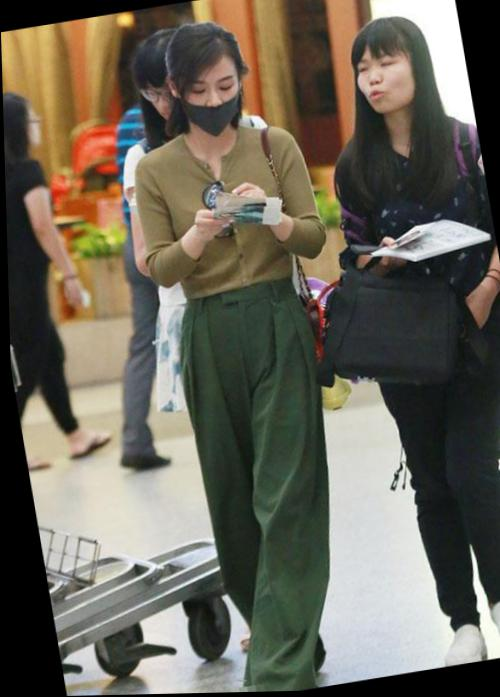NONE: (352, 49, 416, 117), (140, 74, 191, 129)
WRONG: (171, 67, 248, 144)
